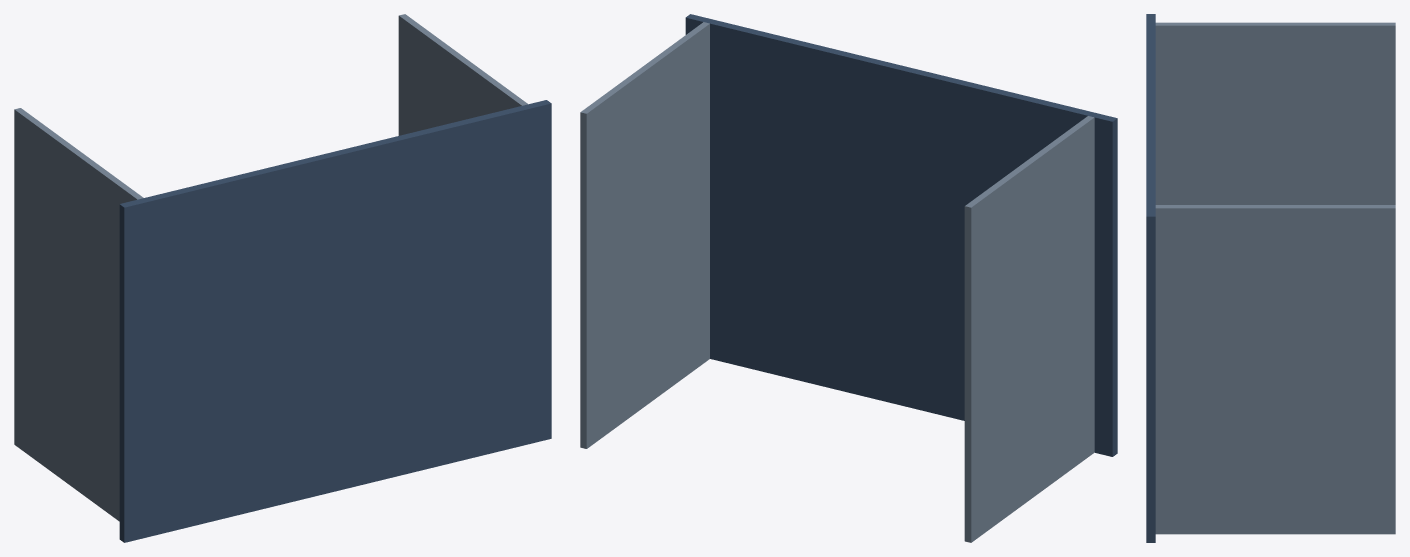
File: warehouse.glb
3 views of the same model, side by side, from view 1: azimuth 30°, elevation 25°; view 2: azimuth 150°, elevation 25°; view 3: azimuth 270°, elevation 25° (orthographic). The views are drawn at different scales.
Visible parts, largest first — view 1: floor, wall, wall.001; view 2: floor, wall, wall.001; view 3: wall.001, wall, floor.
Boxes of the visible parts, x1,y1,x2,y2 form: floor: (119,100,551,542); wall: (14,108,143,521); wall.001: (398,14,527,135); floor: (685,14,1117,456); wall: (964,116,1094,542); wall.001: (580,22,709,448); wall.001: (1155,205,1395,534); wall: (1155,22,1395,204); floor: (1146,14,1155,542).
Size of the model in its own units: 8 by 6 by 4.16.
